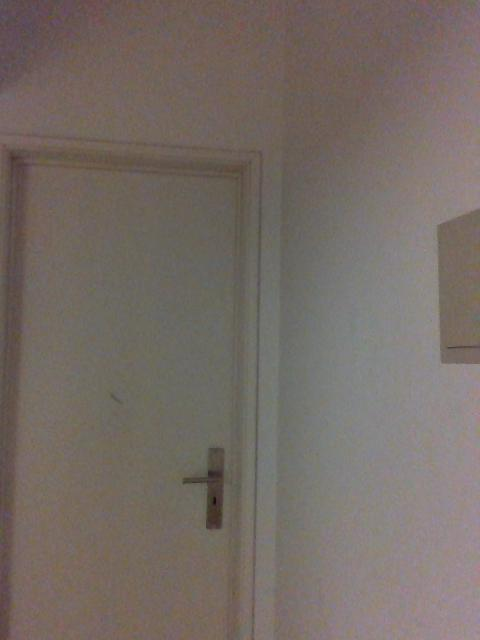door: (12, 158, 239, 634)
